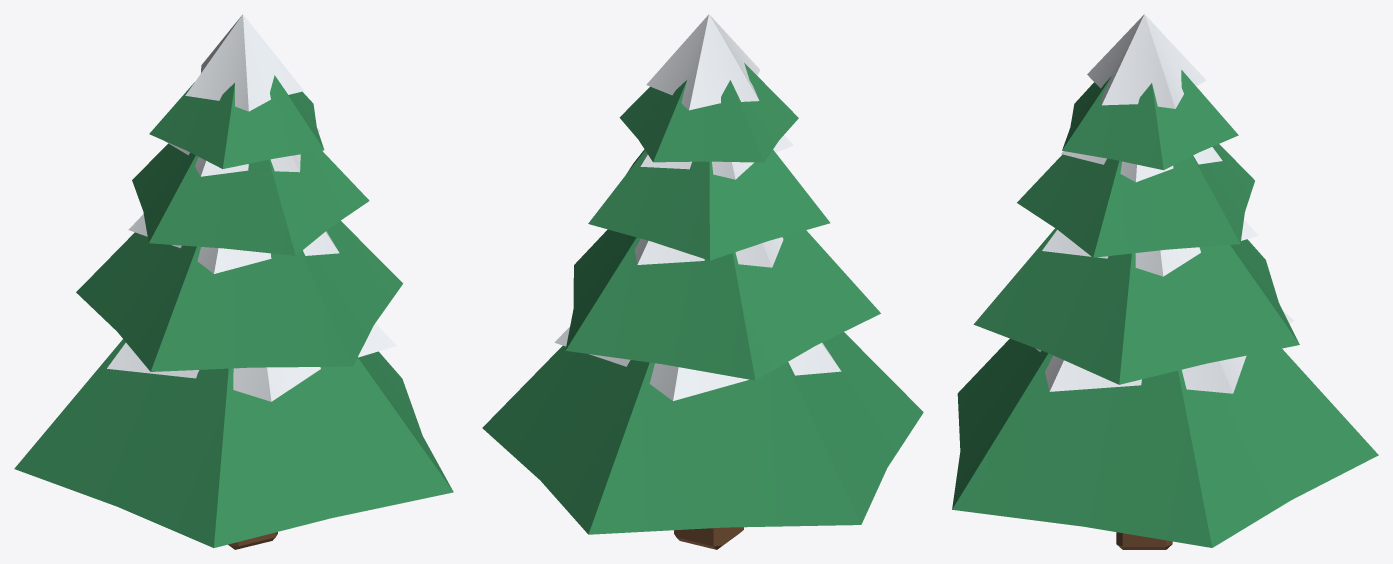
Rendered from SnowPineTall.fbx.
3 renders of one model, left to right at view 1: azimuth 30°, elevation 25°; view 2: azimuth 150°, elevation 25°; view 3: azimuth 270°, elevation 25°, orthographic.
Parts seen in each view (by area): view 1: SnowPineTall_Needle, SnowPineTall_Snow; view 2: SnowPineTall_Needle, SnowPineTall_Snow, SnowPineTall_Bark; view 3: SnowPineTall_Needle, SnowPineTall_Snow, SnowPineTall_Bark.
Part boxes in pixels (box(x1,y1,x2,y2)): SnowPineTall_Needle: box(14, 75, 453, 547); SnowPineTall_Snow: box(107, 14, 396, 401); SnowPineTall_Needle: box(482, 63, 923, 534); SnowPineTall_Snow: box(554, 14, 841, 400); SnowPineTall_Bark: box(674, 527, 743, 549); SnowPineTall_Needle: box(952, 70, 1378, 547); SnowPineTall_Snow: box(1035, 14, 1293, 393); SnowPineTall_Bark: box(1116, 532, 1172, 549).
Size of the model in its own units: 554 by 722 by 530.
